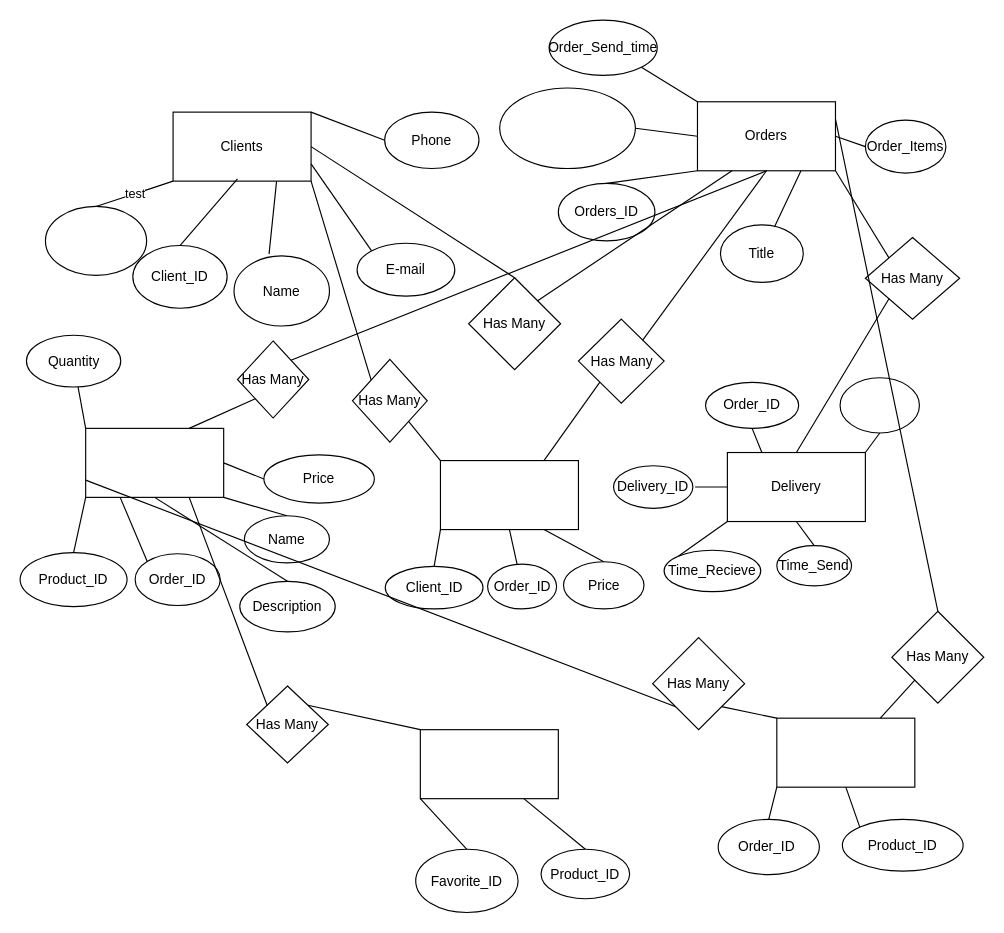
Image size: 1004x933. Some labels were removed from this diagram. The shapes that lost their labels are listed below. From the top down, each one's centre as x and y in pixels, then its label:
the point at 567,127: Order_Recieve_time
the point at 95,240: Address
the point at 879,405: % Off
the point at 154,462: Product
the point at 508,494: Client_Order
the point at 488,764: Favorites
the point at 845,752: Order_Product
